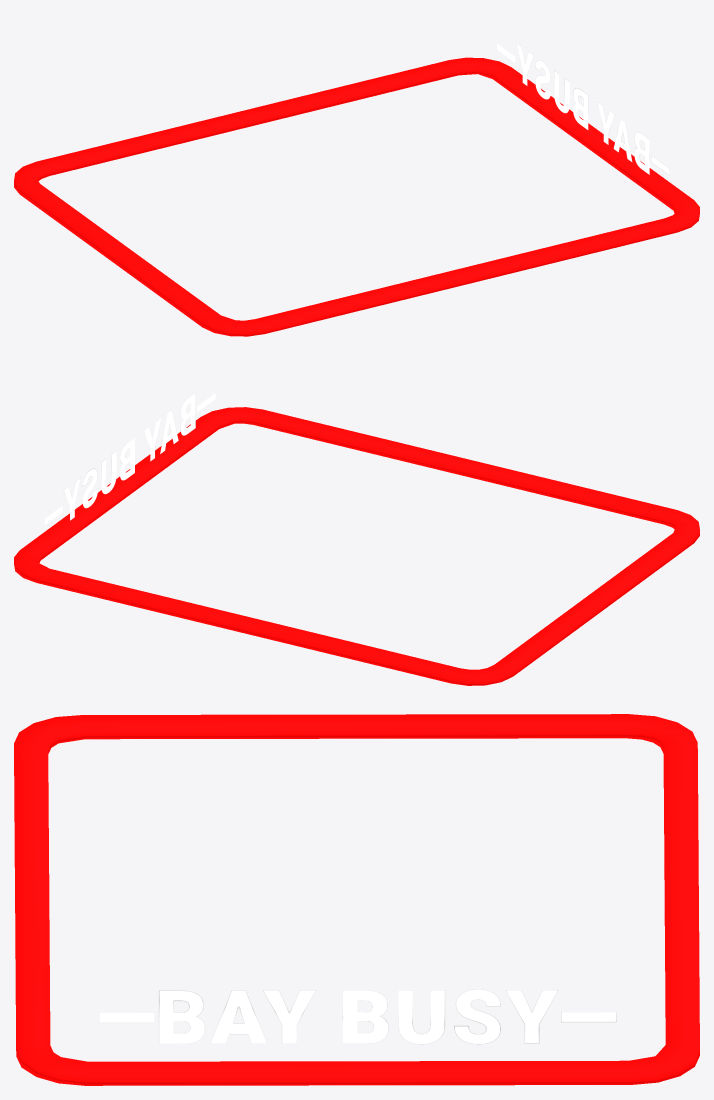
Rendered from Bay_Busy.glb.
3 renders of one model, top to bottom at view 1: azimuth 30°, elevation 25°; view 2: azimuth 150°, elevation 25°; view 3: azimuth 270°, elevation 25°, orthographic. The views are drawn at different scales.
Parts seen in each view (by area): view 1: Bay Occupied; view 2: Bay Occupied; view 3: Bay Occupied.
Boxes of the visible parts, left/top/right/bottom form: Bay Occupied: left=14, top=43, right=699, bottom=336; Bay Occupied: left=14, top=393, right=699, bottom=685; Bay Occupied: left=14, top=714, right=699, bottom=1085.
Size of the model in its own units: 3.76 by 0.474 by 3.01.
2 materials, 2 textured.
